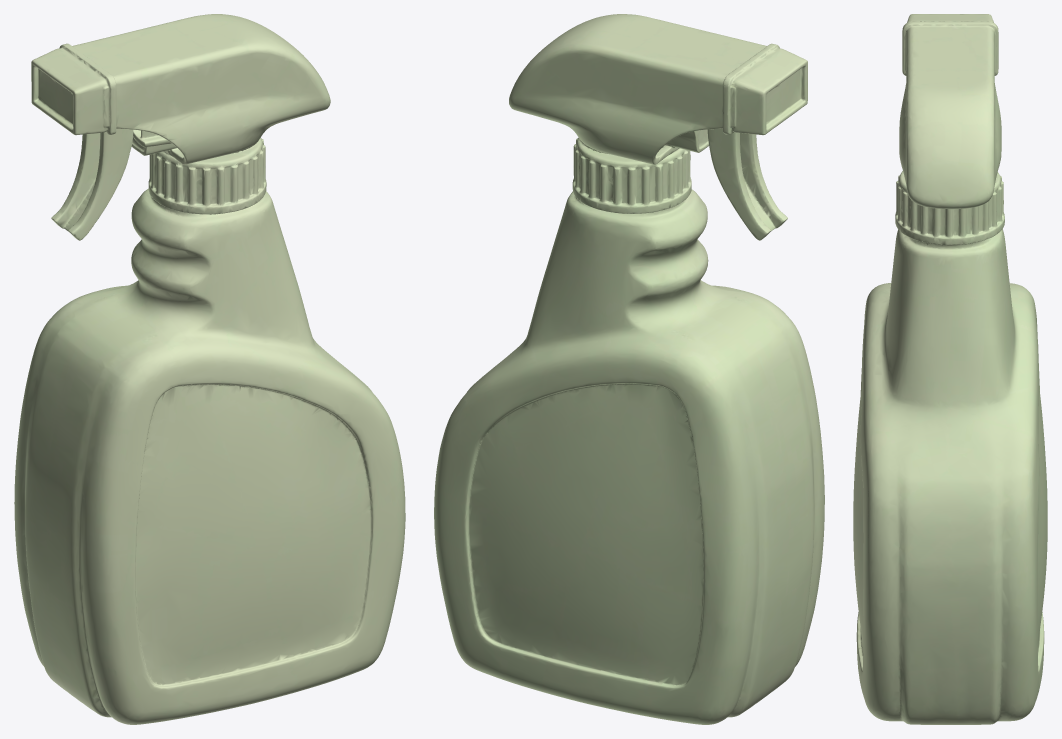
Rendered from spray-bottle.glb.
The picture shows the model from 3 angles, left to right: view 1: azimuth 30°, elevation 25°; view 2: azimuth 150°, elevation 25°; view 3: azimuth 270°, elevation 25°; orthographic projection. The views are drawn at different scales.
Bounding box in the file's own units: 1 × 1.9 × 0.5667.
Materials: 1 (1 with a texture image).
